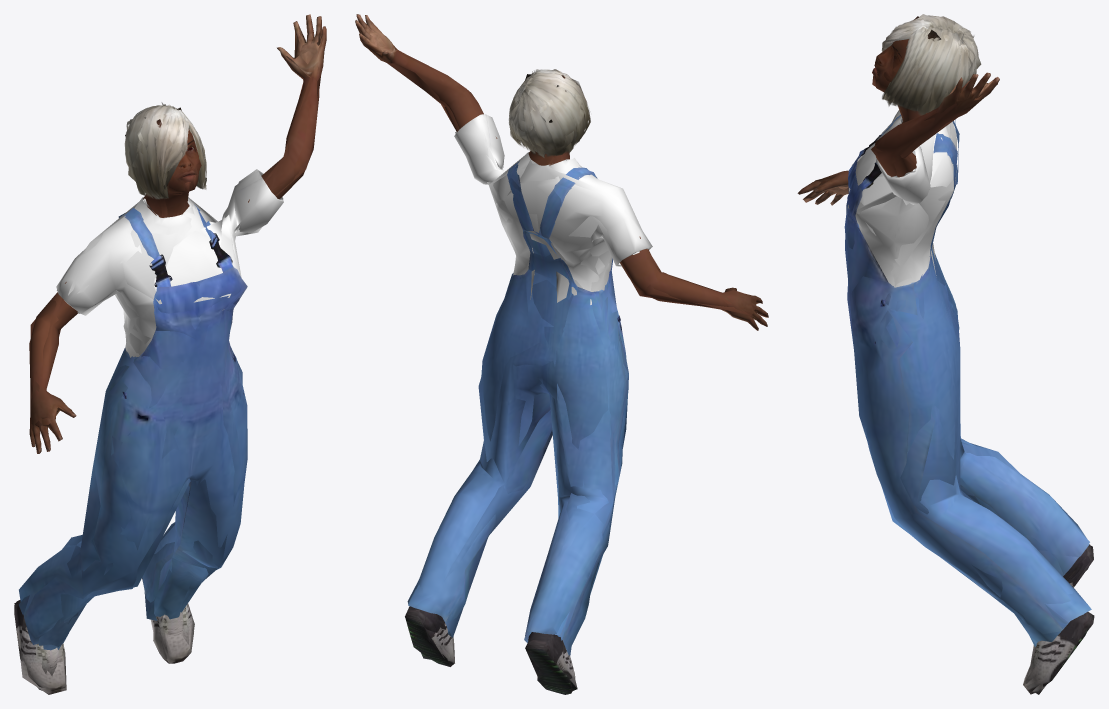
The model's file is frozen-3.glb.
The picture shows the model from 3 angles, left to right: view 1: azimuth 30°, elevation 25°; view 2: azimuth 150°, elevation 25°; view 3: azimuth 270°, elevation 25°; orthographic projection. The views are drawn at different scales.
Parts seen in each view (by area): view 1: near, far; view 2: near, far; view 3: near, far.
Part boxes in pixels (box(x1,y1,x2,y2)): near: box(14, 14, 326, 691); far: box(14, 21, 322, 694); near: box(355, 14, 768, 694); far: box(359, 20, 767, 690); near: box(797, 15, 1091, 694); far: box(813, 14, 1094, 694).
Size of the model in its own units: 1.01 by 1.72 by 0.6831.
2 materials, 2 textured.
